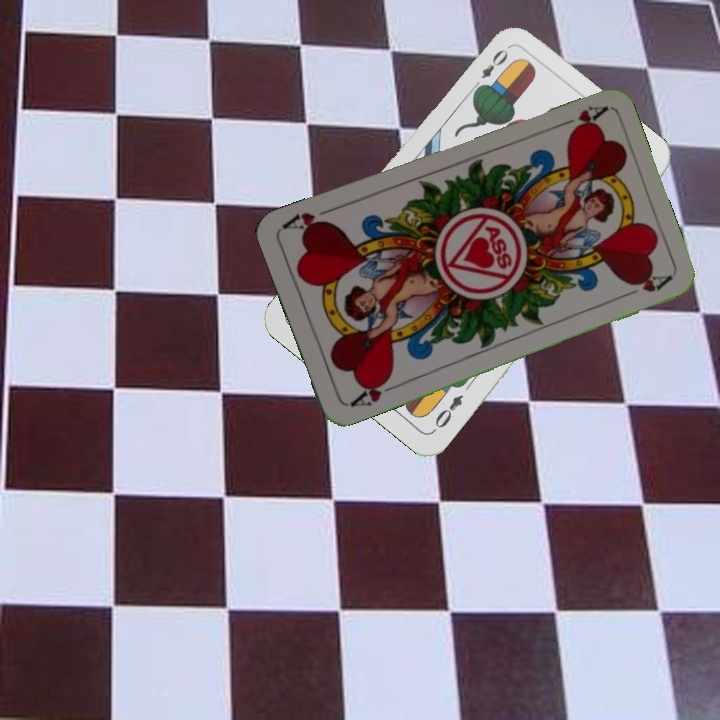EO: (469, 44, 511, 94), (430, 390, 466, 431)
HA: (346, 372, 401, 410), (551, 101, 608, 137)
